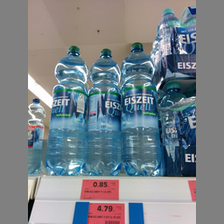water: (44, 45, 89, 175), (119, 42, 163, 174), (87, 48, 122, 174)
